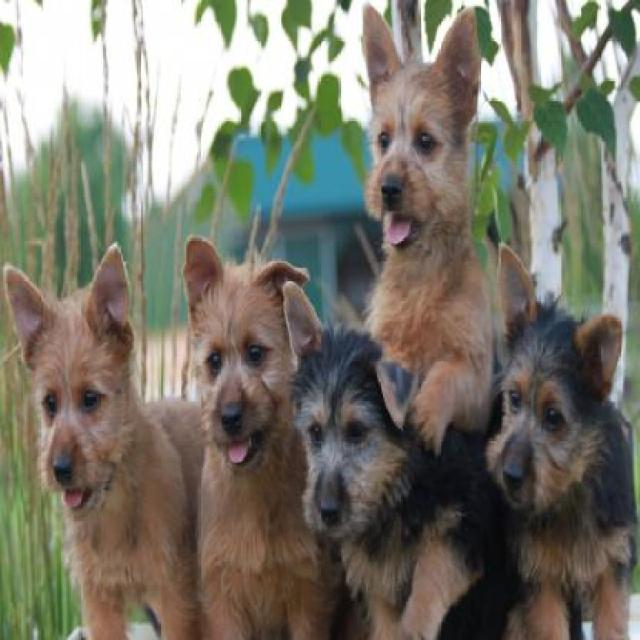animals: (481, 234, 640, 640), (6, 252, 180, 593), (268, 261, 405, 640), (339, 0, 488, 337), (167, 237, 298, 601)
